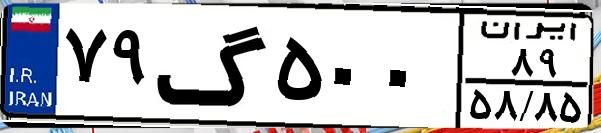0: (385, 28, 445, 110), (330, 28, 385, 110)
5: (270, 28, 330, 110), (560, 70, 590, 125), (470, 70, 495, 125)
7: (57, 26, 110, 100)
8: (508, 27, 537, 80), (495, 70, 520, 125), (535, 70, 560, 125)
9: (110, 28, 156, 98), (537, 27, 568, 80)
گ: (156, 12, 270, 120)
